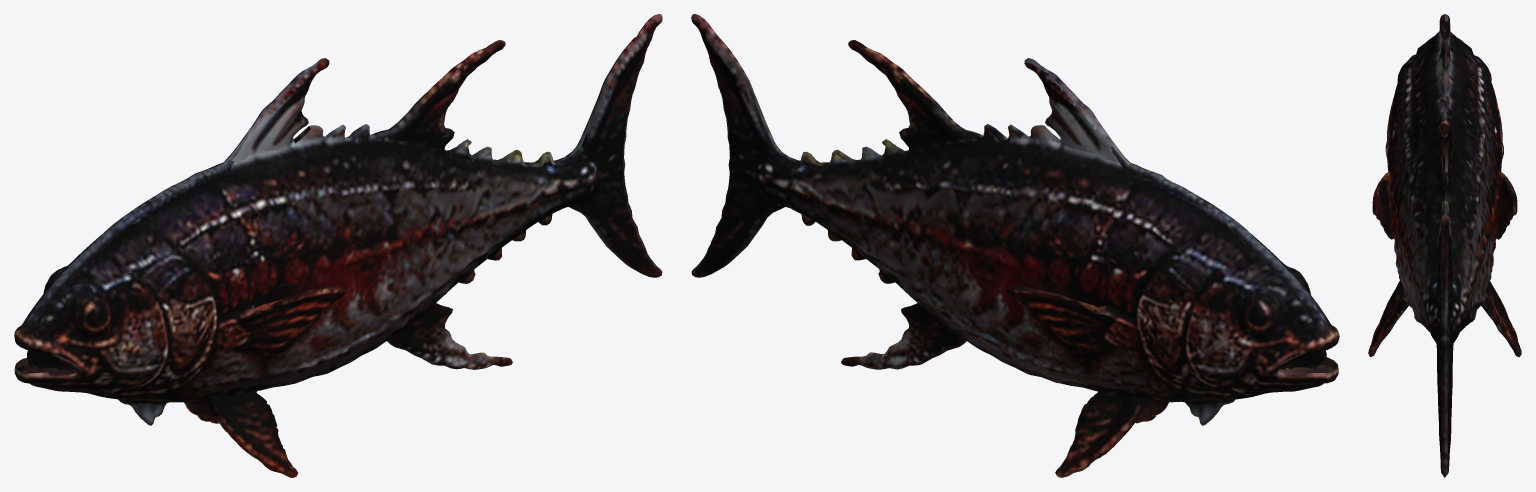
The picture shows the model from 3 angles, left to right: view 1: azimuth 30°, elevation 25°; view 2: azimuth 150°, elevation 25°; view 3: azimuth 270°, elevation 25°; orthographic projection.
Parts seen in each view (by area): view 1: tmpjl8dc76n.ply; view 2: tmpjl8dc76n.ply; view 3: tmpjl8dc76n.ply.
Part boxes in pixels (box(x1,y1,x2,y2)): tmpjl8dc76n.ply: box(14, 14, 662, 477); tmpjl8dc76n.ply: box(691, 14, 1339, 477); tmpjl8dc76n.ply: box(1368, 14, 1521, 477).
Bounding box in the file's own units: 1.96 × 1.09 × 0.406.
1 material, 1 textured.
